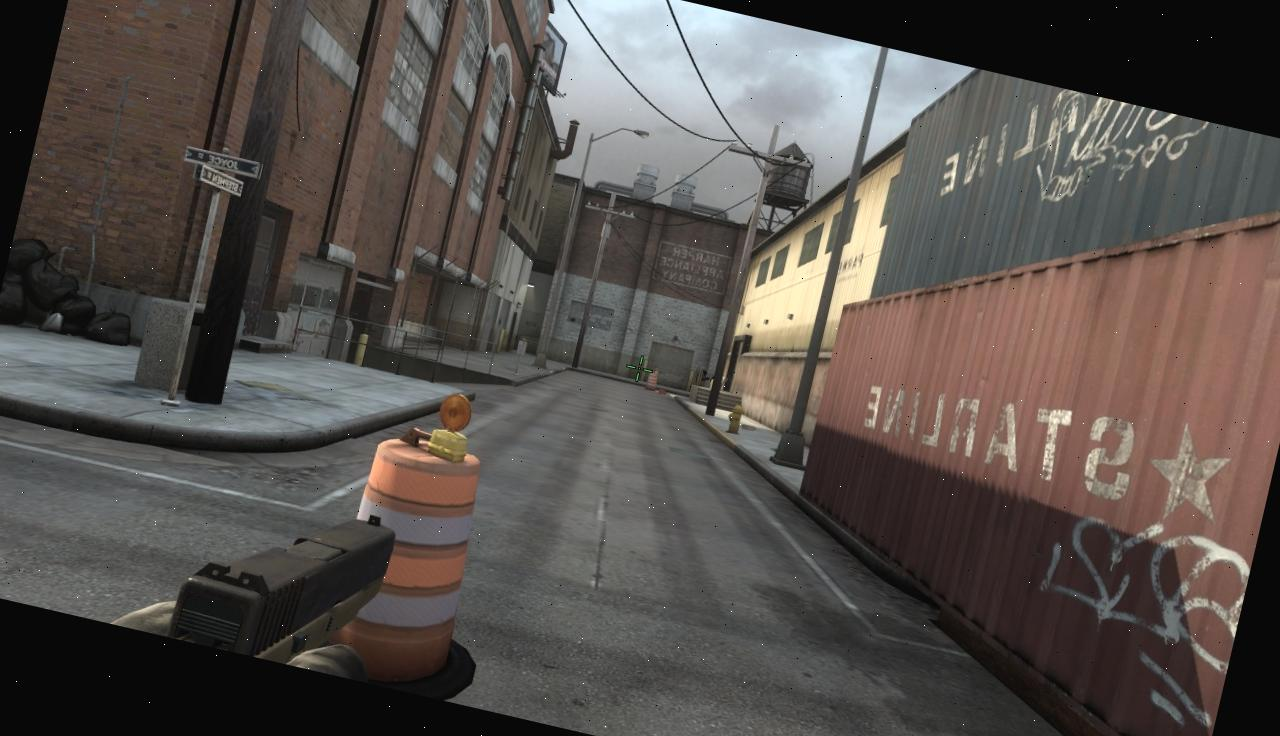pistol: (144, 460, 413, 684)
